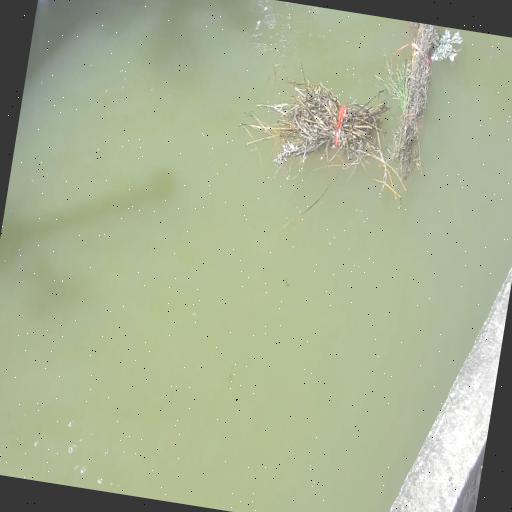twig: (261, 66, 396, 210), (363, 18, 465, 186)
